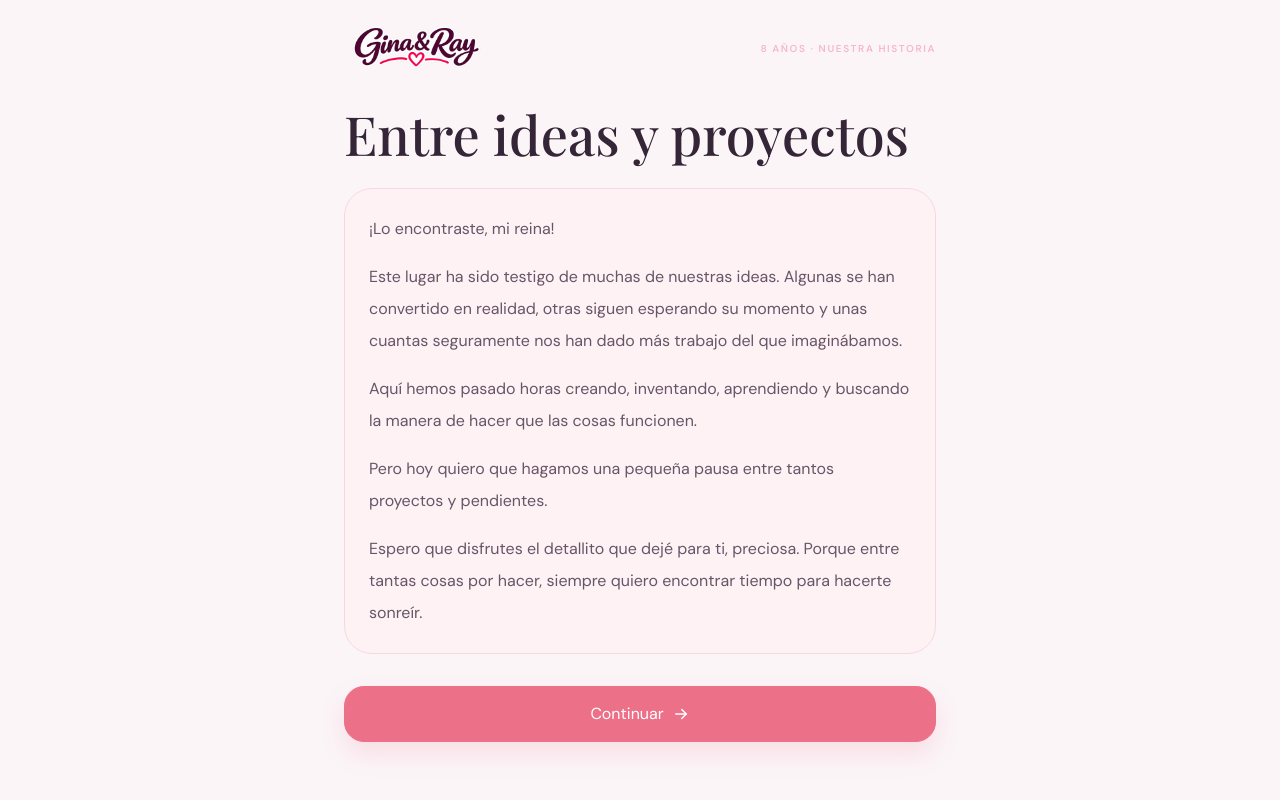
Test: journey pages › moves chapter three from station to history and then to the next clue
The image size is (1280, 800).
(page scrolled)
Click the button "Continuar" at {"x": 640, "y": 714}, box x1=344 y1=686 x2=936 y2=742
(page scrolled)
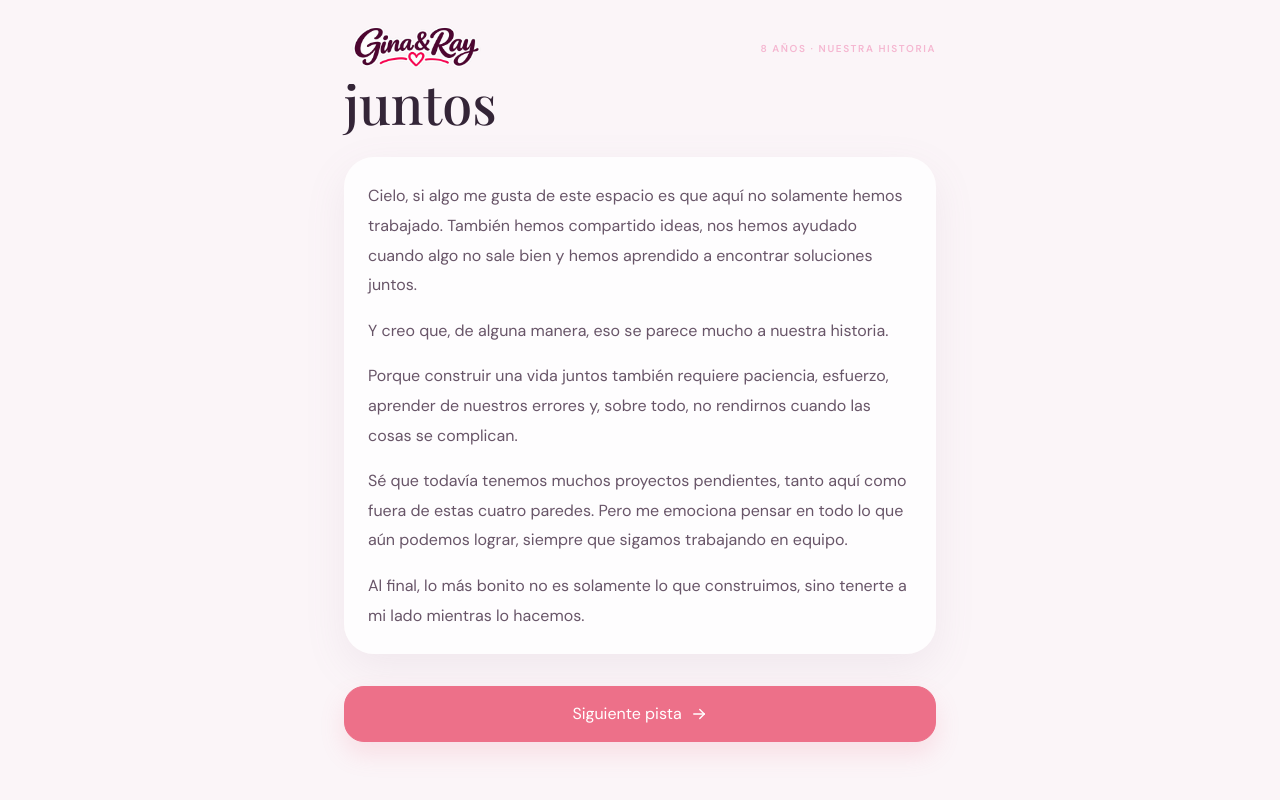
Result: the heading "Lo que construimos juntos" is shown at x1=344 y1=6 x2=830 y2=139
Click the button "Siguiente pista" at {"x": 640, "y": 714}, box x1=344 y1=686 x2=936 y2=742
(page scrolled)
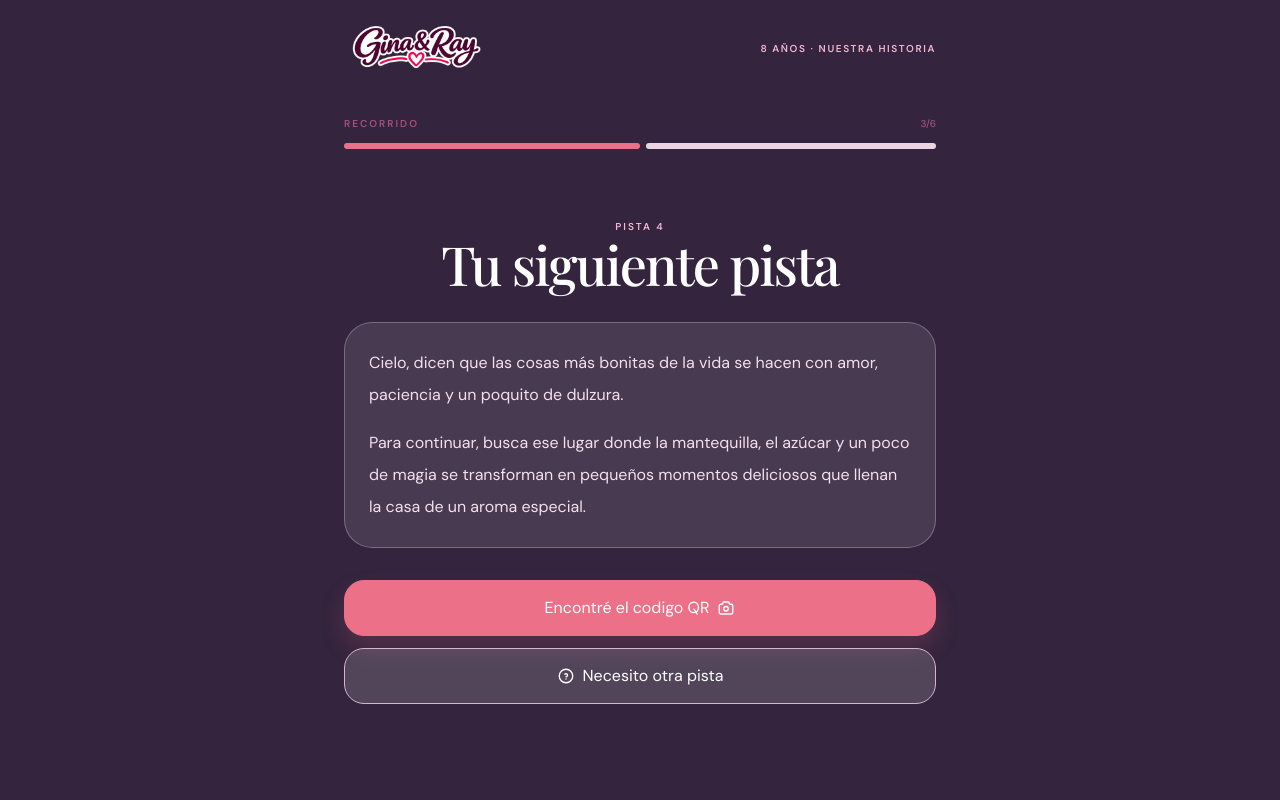
Result: the button "Encontré el codigo QR" is shown at x1=344 y1=580 x2=936 y2=636
